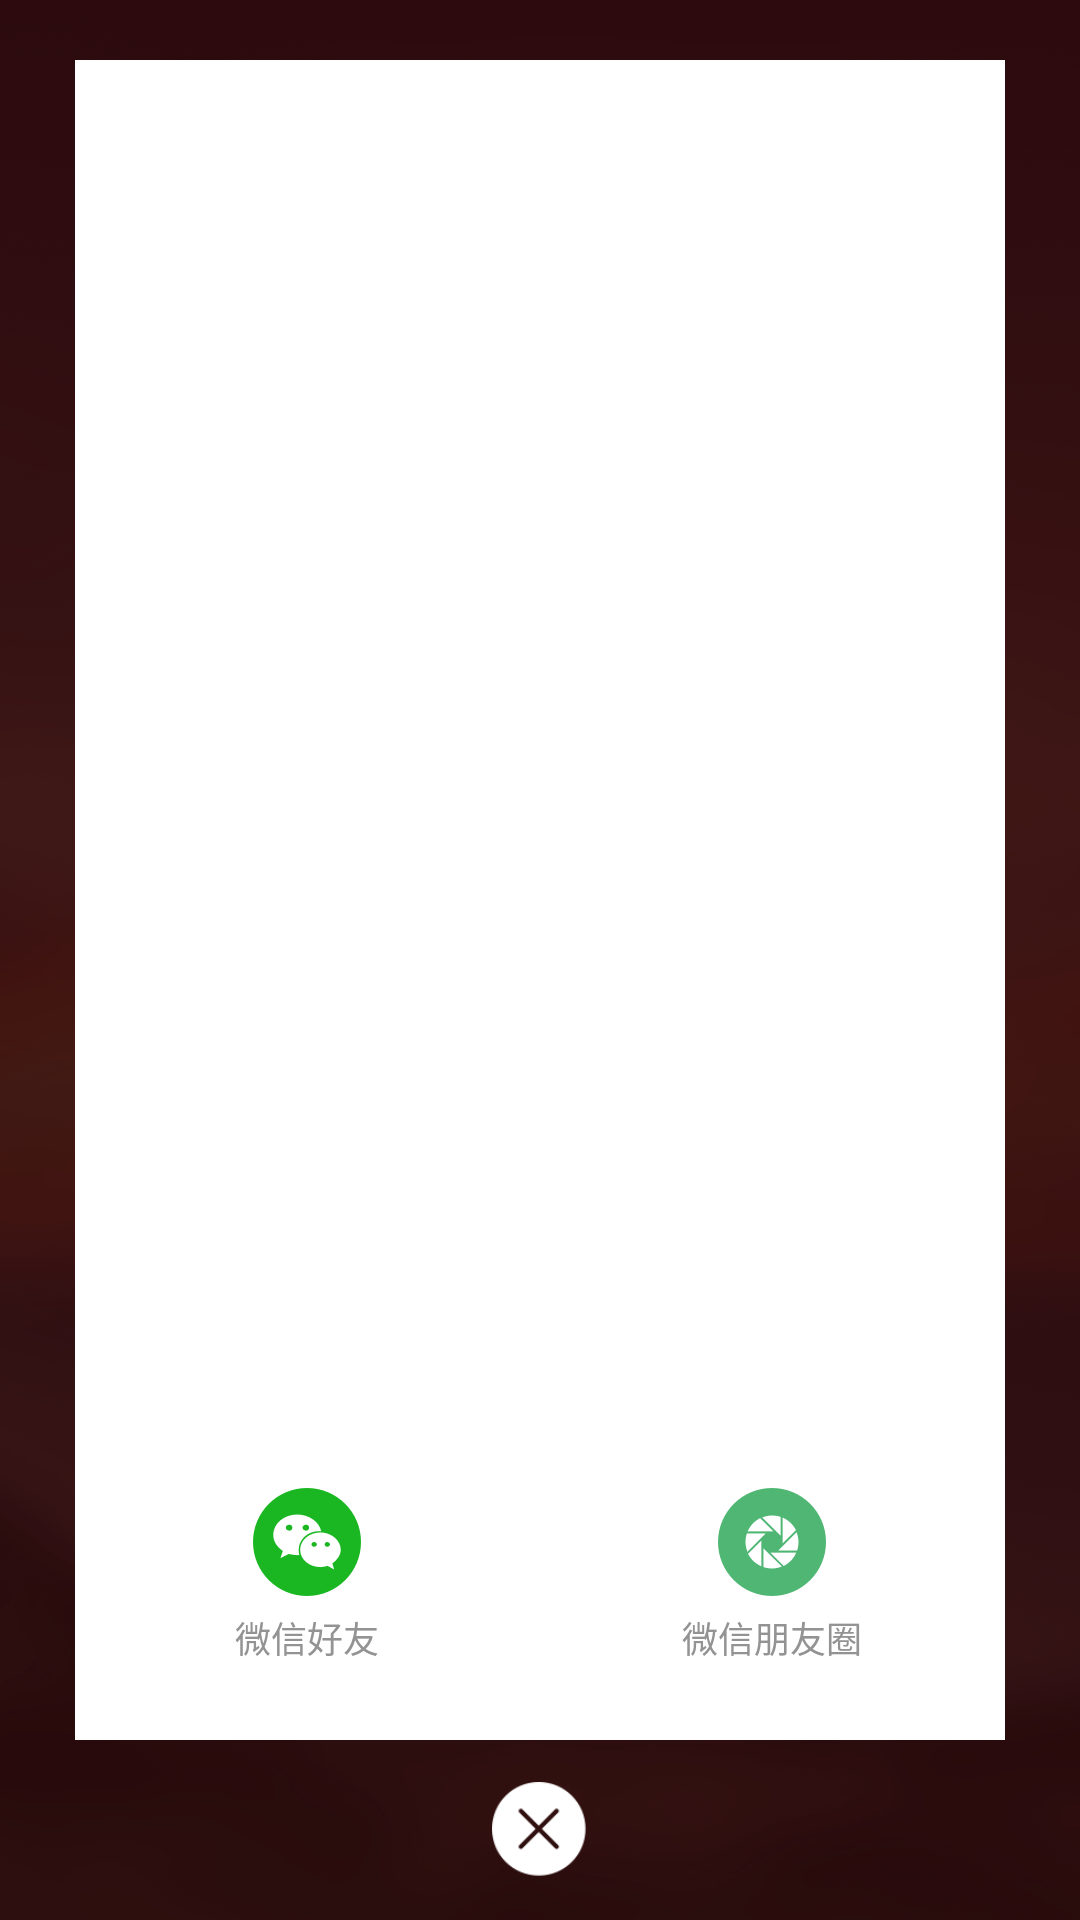

Where icons sit on this 1080px×1920px app screen, as box=[x1, y1, x2, y2]:
share close: box=[492, 1782, 586, 1876]
